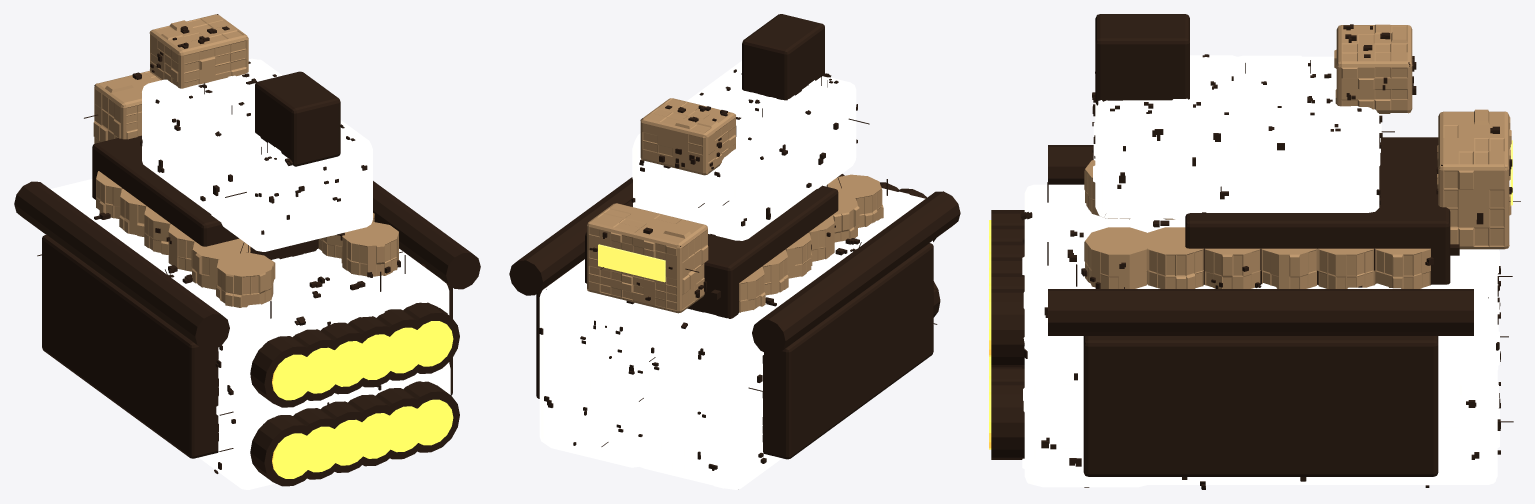
The model's file is gorrath_titan.glb.
3 renders of one model, left to right at view 1: azimuth 30°, elevation 25°; view 2: azimuth 150°, elevation 25°; view 3: azimuth 270°, elevation 25°, orthographic. The views are drawn at different scales.
Visible parts, largest first — view 1: gorrath_titan; view 2: gorrath_titan; view 3: gorrath_titan.
Boxes of the visible parts, x1,y1,x2,y2 form: gorrath_titan: [14, 14, 480, 489]; gorrath_titan: [509, 14, 960, 489]; gorrath_titan: [989, 14, 1520, 489].
Bounding box in the file's own units: 7.41 × 9.11 × 10.15.
